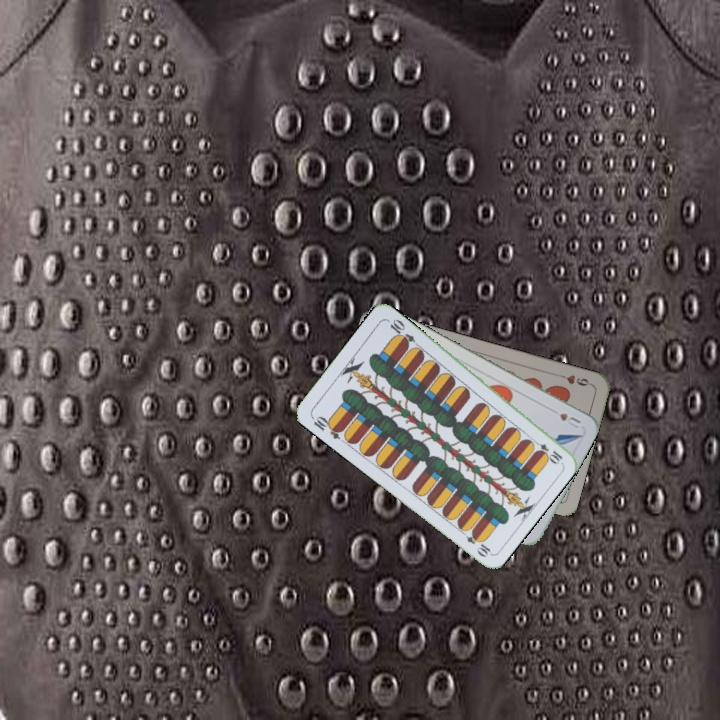E10: (307, 412, 346, 442), (528, 435, 565, 466)
H9: (555, 371, 595, 389)
HU: (555, 409, 583, 431)
